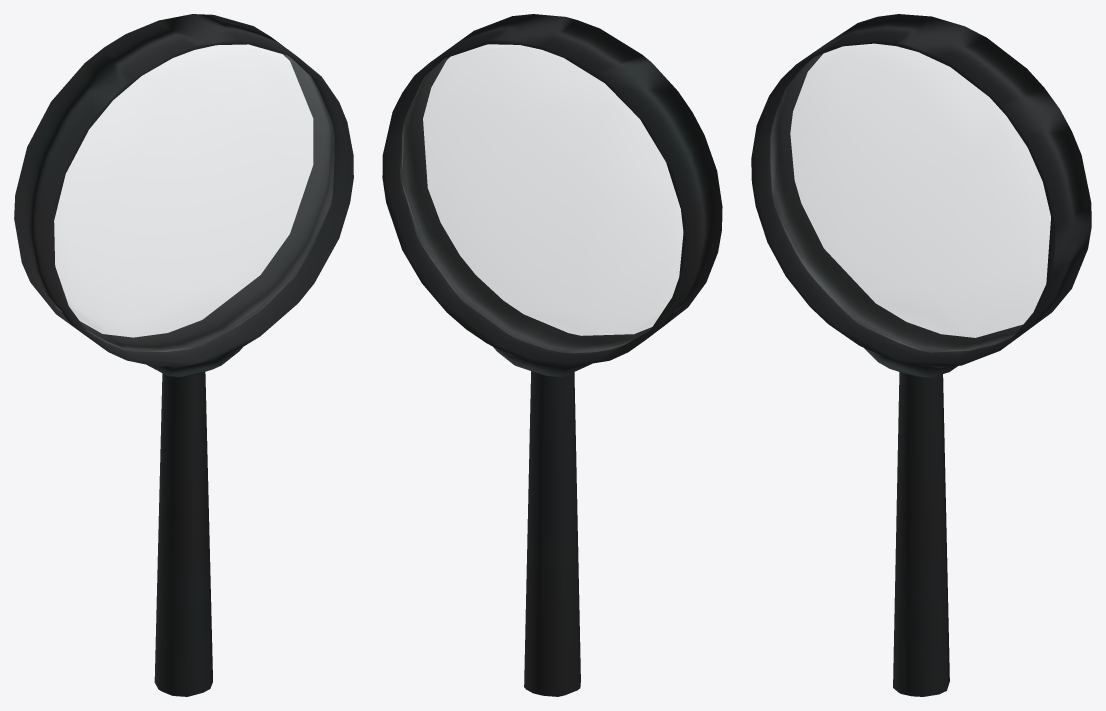
File: design-magnifying-glass-01.glb
The picture shows the model from 3 angles, left to right: view 1: azimuth 30°, elevation 25°; view 2: azimuth 150°, elevation 25°; view 3: azimuth 330°, elevation 25°; orthographic projection.
Parts seen in each view (by area): view 1: magnifying_glass_01; view 2: magnifying_glass_01; view 3: magnifying_glass_01.
Part boxes in pixels (x1,y1,x2,y2): magnifying_glass_01: (14,14,353,696); magnifying_glass_01: (382,14,722,696); magnifying_glass_01: (751,14,1091,696).
Size of the model in its own units: 0.1316 by 0.2714 by 0.0267.
Materials: 2 (1 with a texture image).
